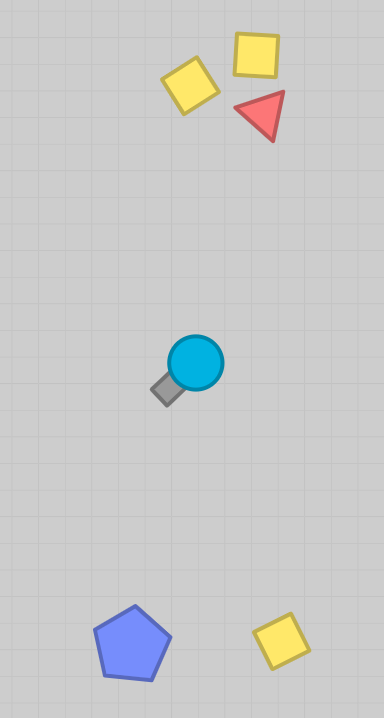Pentagon: (91, 601, 175, 686)
Player: (147, 329, 228, 409)
Square: (158, 53, 223, 121), (248, 610, 316, 673), (230, 29, 281, 81)
Triangle: (230, 88, 292, 144)
